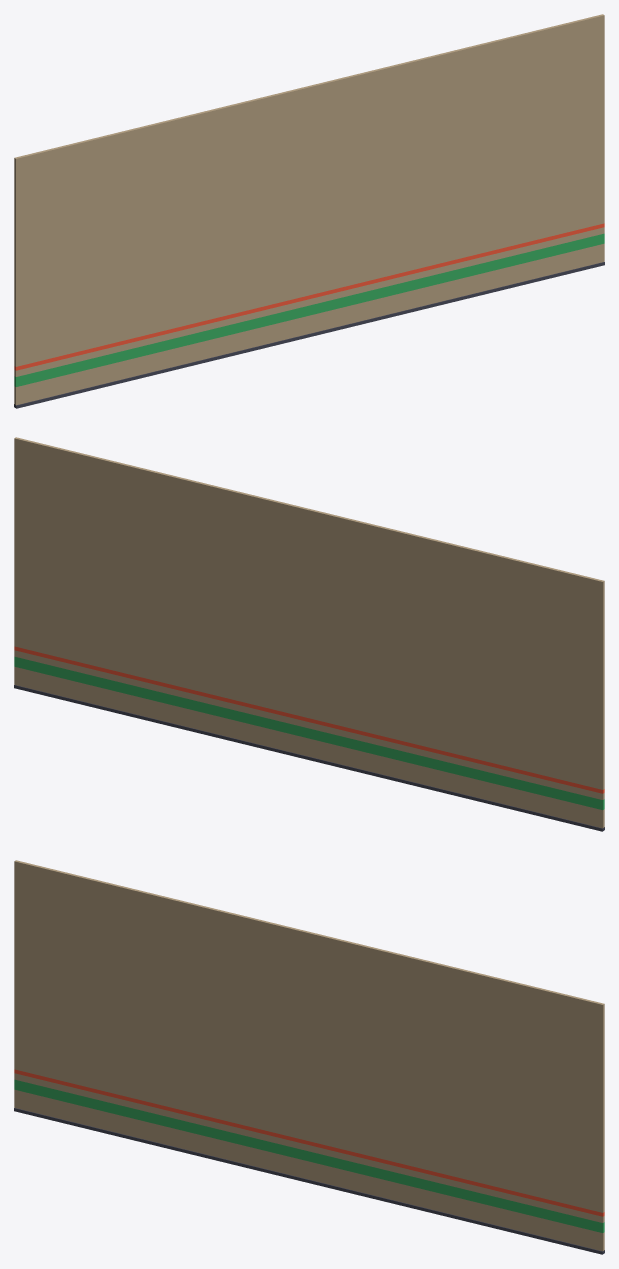
File: WALL reg.fbx
3 renders of one model, top to bottom at view 1: azimuth 30°, elevation 25°; view 2: azimuth 150°, elevation 25°; view 3: azimuth 330°, elevation 25°, orthographic.
Visible parts, largest first — view 1: reg wall; view 2: reg wall; view 3: reg wall.
Part boxes in pixels (left/top/right/bottom): reg wall: left=14, top=14, right=604, bottom=408; reg wall: left=14, top=437, right=604, bottom=831; reg wall: left=14, top=860, right=604, bottom=1254.
Bounding box in the file's own units: 106 × 0.7483 × 42.76.
